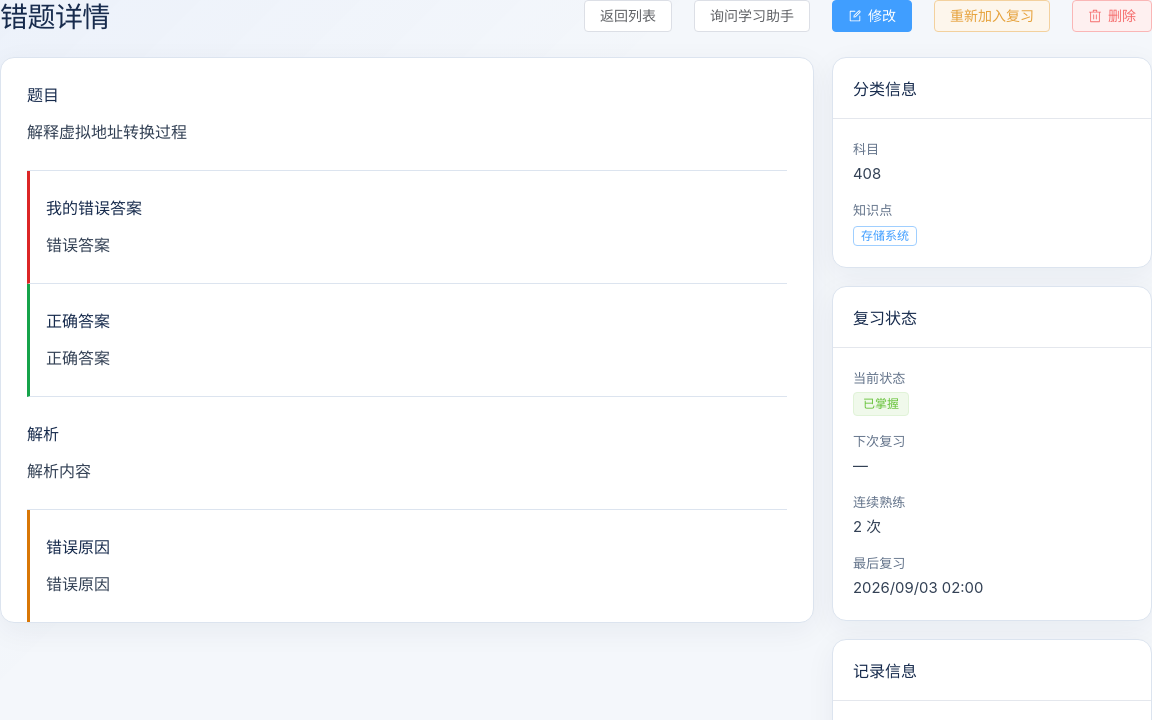
Scenario: QuestionDetailView reactivation › enters the existing not-found state when the question disappears
Click the button with test id "reactivate-question": click(992, 16) [934,0,1050,32]
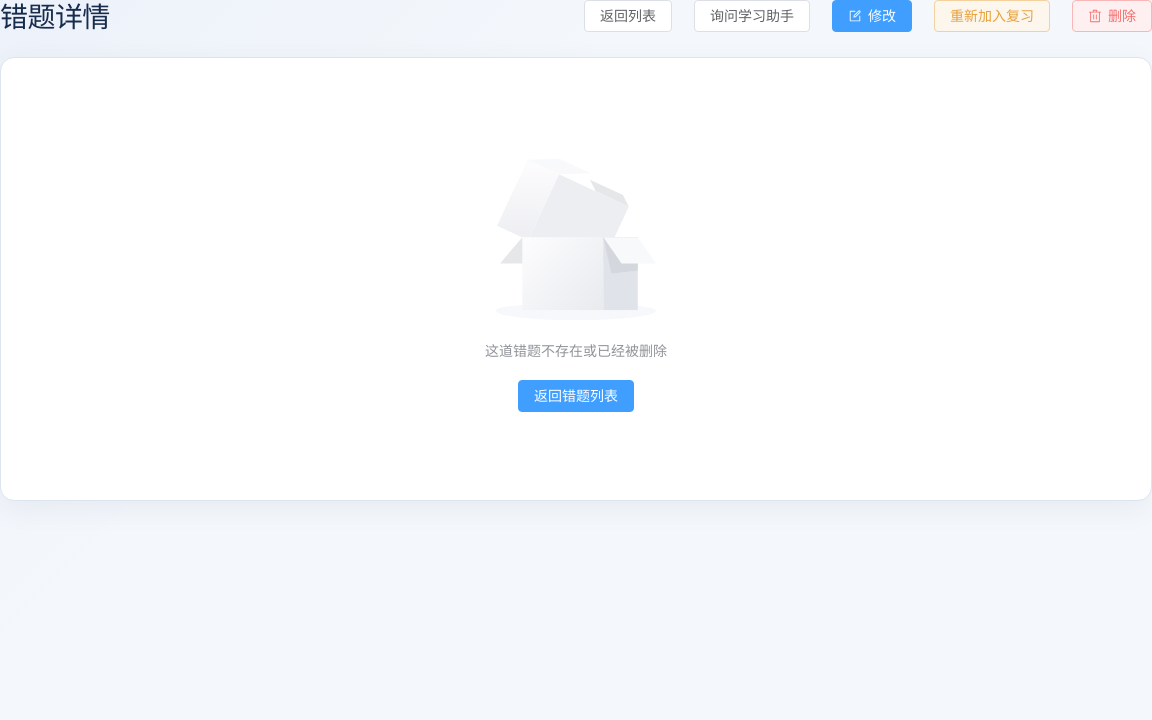
Check: the text "这道错题不存在或已经被删除" is shown, box [485,340,667,360]
